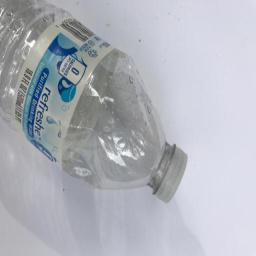plastic: (1, 1, 188, 200)
